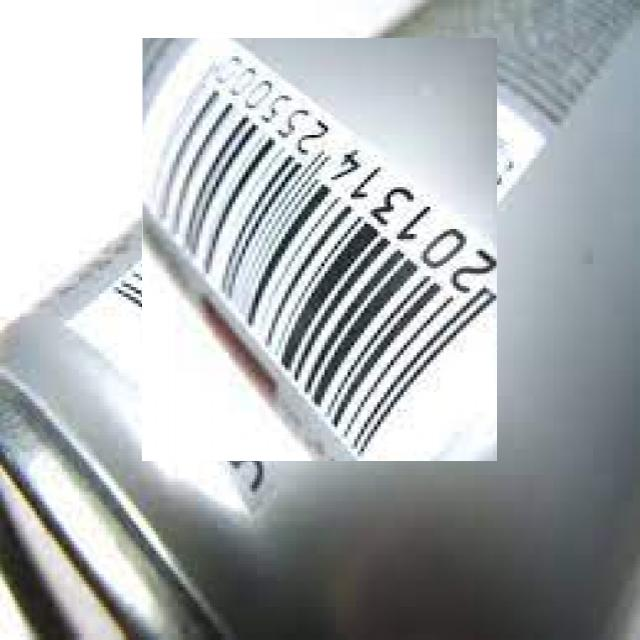Barkod: (126, 55, 514, 444)
